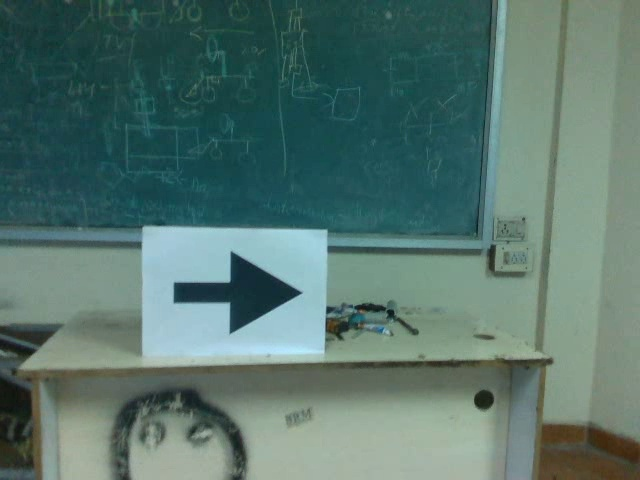Right: (162, 244, 307, 340)
